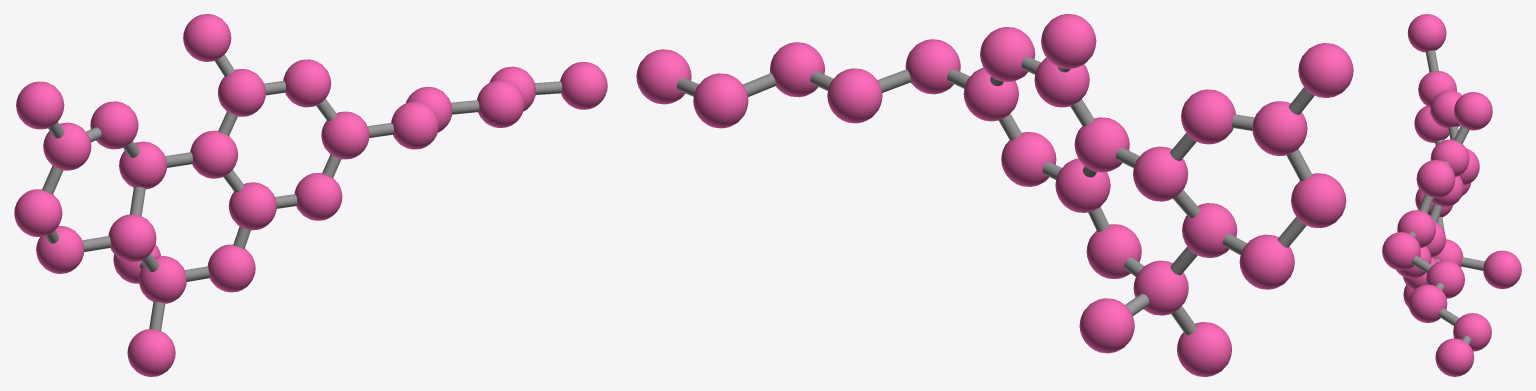
Rendered from thc_pink.obj.
3 views of the same model, side by side, from view 1: azimuth 30°, elevation 25°; view 2: azimuth 150°, elevation 25°; view 3: azimuth 270°, elevation 25° (orthographic). The views are drawn at different scales.
Parts seen in each view (by area): view 1: atom_15_C, atom_11_C, atom_1_O, atom_7_C, atom_0_O, atom_2_C, atom_22_C, atom_18_C, atom_20_C, atom_17_C, atom_13_C, atom_6_C (+11 smaller); view 2: atom_12_C, atom_15_C, atom_21_C, atom_1_O, atom_19_C, atom_7_C, atom_8_C, atom_5_C, atom_9_C, atom_3_C, atom_11_C, atom_17_C (+11 smaller); view 3: atom_1_O, atom_12_C, atom_22_C, atom_17_C, atom_15_C, atom_18_C, atom_20_C, atom_21_C, atom_19_C, atom_16_C, atom_13_C, atom_8_C (+16 smaller).
Boxes of the visible parts, left/top/right/bottom form: atom_15_C: left=16, top=81, right=64, bottom=129; atom_11_C: left=127, top=329, right=175, bottom=376; atom_1_O: left=183, top=14, right=231, bottom=61; atom_7_C: left=14, top=189, right=62, bottom=236; atom_0_O: left=207, top=244, right=255, bottom=292; atom_2_C: left=108, top=214, right=156, bottom=262; atom_22_C: left=560, top=62, right=607, bottom=109; atom_18_C: left=391, top=101, right=438, bottom=149; atom_20_C: left=477, top=80, right=524, bottom=127; atom_17_C: left=283, top=59, right=331, bottom=107; atom_13_C: left=218, top=69, right=265, bottom=116; atom_6_C: left=190, top=130, right=238, bottom=178; atom_12_C: left=1079, top=298, right=1134, bottom=353; atom_15_C: left=1298, top=43, right=1353, bottom=97; atom_21_C: left=693, top=73, right=748, bottom=128; atom_1_O: left=1041, top=14, right=1096, bottom=68; atom_19_C: left=827, top=68, right=882, bottom=123; atom_7_C: left=1291, top=173, right=1346, bottom=228; atom_8_C: left=1181, top=89, right=1235, bottom=144; atom_5_C: left=1239, top=234, right=1294, bottom=289; atom_9_C: left=1252, top=101, right=1307, bottom=155; atom_3_C: left=1133, top=146, right=1188, bottom=201; atom_11_C: left=1177, top=322, right=1231, bottom=376; atom_17_C: left=980, top=27, right=1035, bottom=81; atom_1_O: left=1454, top=92, right=1492, bottom=130; atom_12_C: left=1483, top=250, right=1521, bottom=288; atom_22_C: left=1435, top=338, right=1474, bottom=376; atom_17_C: left=1416, top=160, right=1455, bottom=198; atom_15_C: left=1407, top=14, right=1446, bottom=52; atom_18_C: left=1382, top=232, right=1420, bottom=270; atom_20_C: left=1408, top=284, right=1447, bottom=322; atom_21_C: left=1453, top=313, right=1491, bottom=351; atom_19_C: left=1426, top=260, right=1464, bottom=298; atom_16_C: left=1397, top=210, right=1435, bottom=247; atom_13_C: left=1430, top=139, right=1469, bottom=177; atom_8_C: left=1430, top=90, right=1462, bottom=128.
Bounding box in the file's own units: 14.41 × 7.22 × 3.6.
